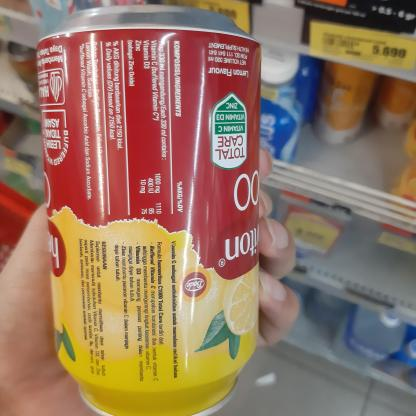alumunium_can: (27, 0, 269, 416)
